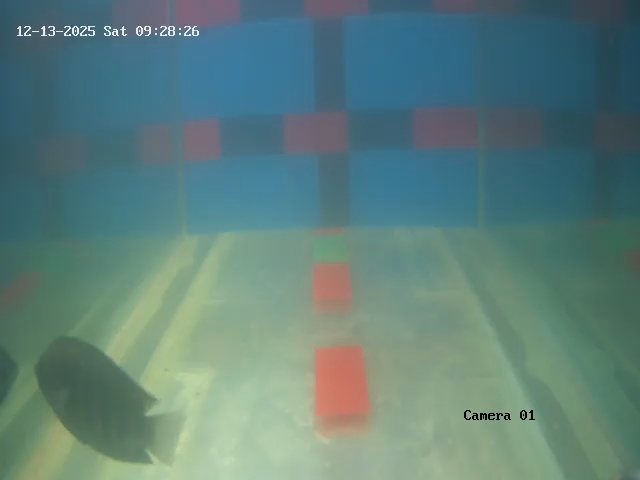fish: (26, 326, 170, 459)
